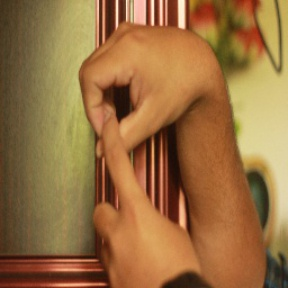Q: (61, 20, 223, 251)
